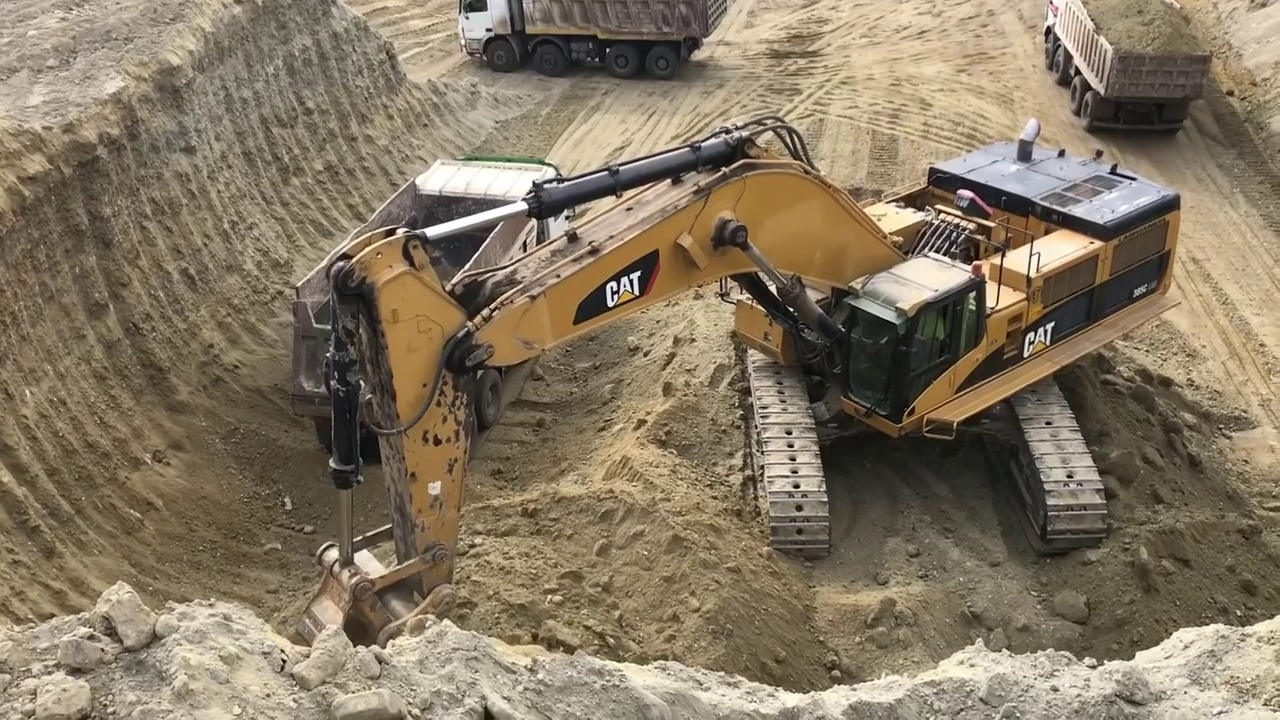excavator: (307, 116, 1183, 675)
truck: (292, 151, 575, 446), (1036, 2, 1215, 135), (452, 1, 728, 76)
